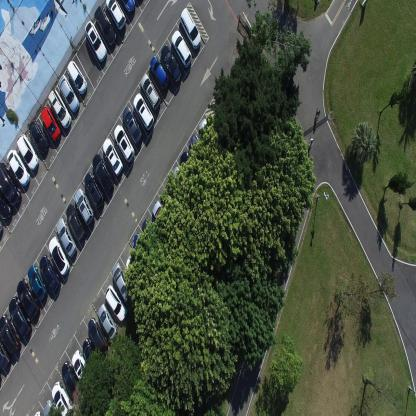car: (93, 5, 118, 49), (47, 88, 72, 129), (84, 19, 106, 64), (8, 296, 31, 338), (179, 7, 201, 50), (16, 277, 38, 319), (104, 284, 128, 322), (0, 161, 21, 204), (160, 43, 182, 84), (38, 253, 60, 294), (58, 73, 80, 114), (92, 152, 113, 194), (56, 216, 77, 258), (112, 262, 133, 304), (132, 91, 154, 131), (48, 236, 70, 276), (71, 349, 93, 389), (16, 133, 39, 171), (7, 148, 30, 186), (113, 122, 134, 162), (0, 313, 20, 354), (171, 29, 192, 68), (140, 72, 161, 111), (103, 137, 123, 177), (97, 301, 118, 339), (51, 381, 74, 415), (73, 187, 94, 224), (40, 105, 61, 142), (66, 203, 86, 241), (66, 60, 87, 96), (61, 362, 82, 398), (122, 106, 141, 145), (27, 264, 46, 302), (84, 172, 104, 208), (148, 54, 169, 88), (189, 132, 211, 164), (88, 317, 108, 352), (29, 119, 48, 155), (179, 149, 201, 180), (104, 0, 125, 32), (82, 337, 100, 374), (152, 198, 171, 232), (199, 118, 219, 148), (172, 166, 191, 196), (126, 253, 144, 283), (133, 232, 152, 260), (142, 216, 159, 246), (0, 195, 13, 222), (0, 340, 11, 371), (42, 398, 58, 416), (119, 0, 136, 15)
